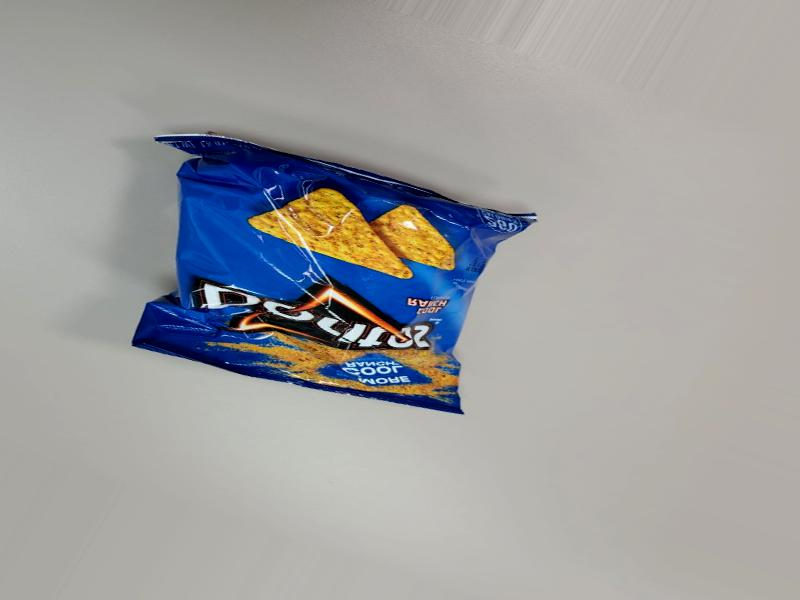doritos: (113, 164, 484, 418)
